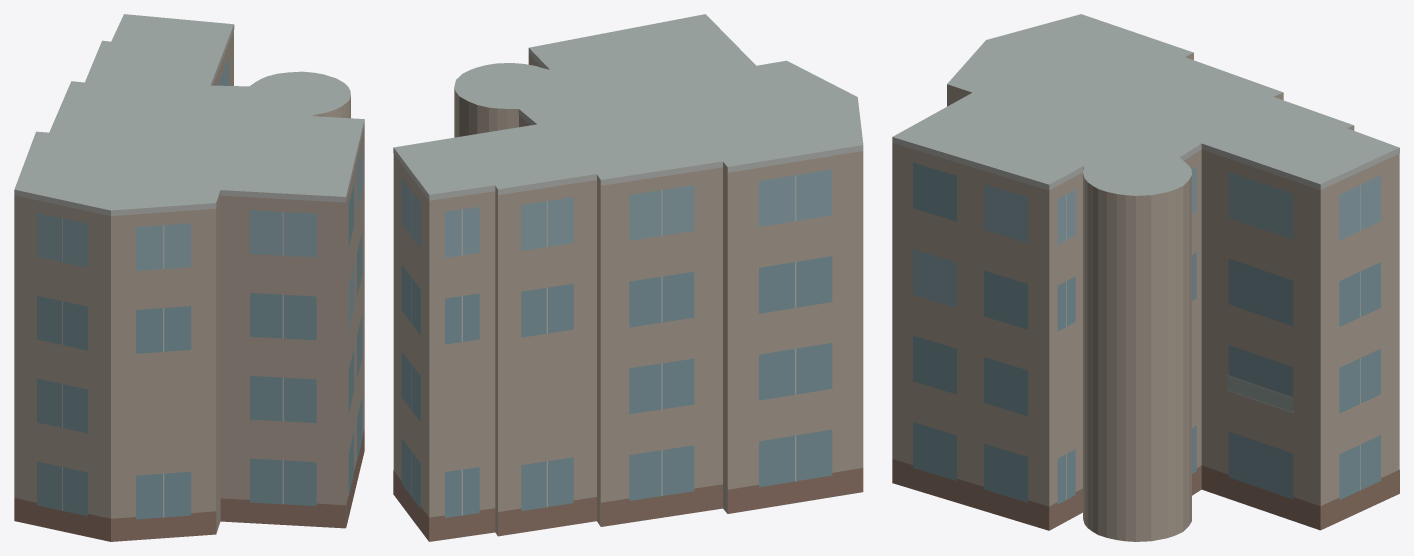
File: survey-upis-33007647.glb
3 views of the same model, side by side, from view 1: azimuth 30°, elevation 25°; view 2: azimuth 150°, elevation 25°; view 3: azimuth 270°, elevation 25° (orthographic). The views are drawn at different scales.
Visible parts, largest first — view 1: survey-upis-33007647.tmp; view 2: survey-upis-33007647.tmp; view 3: survey-upis-33007647.tmp.
Boxes of the visible parts, <box> form: survey-upis-33007647.tmp: <box>14,14,364,541</box>; survey-upis-33007647.tmp: <box>393,14,863,541</box>; survey-upis-33007647.tmp: <box>892,14,1399,541</box>.
Bounding box in the file's own units: 16.23 × 14.4 × 19.15.
